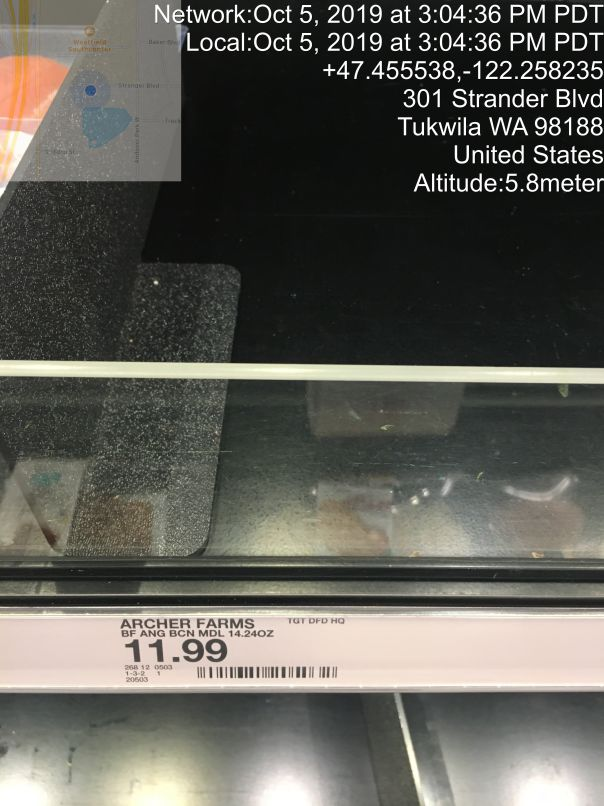Label: (111, 608, 356, 695)
Location: (399, 86, 604, 169)
Time: (150, 6, 604, 58)
Void: (130, 74, 536, 527)
